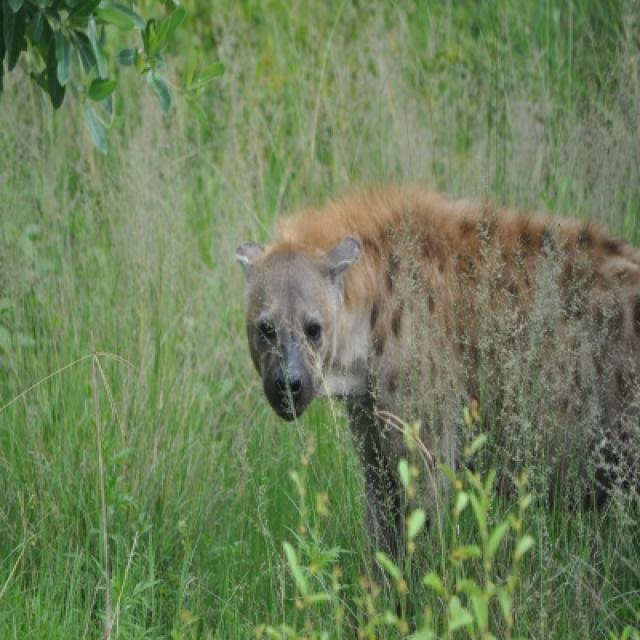hyena: (234, 181, 638, 565)
